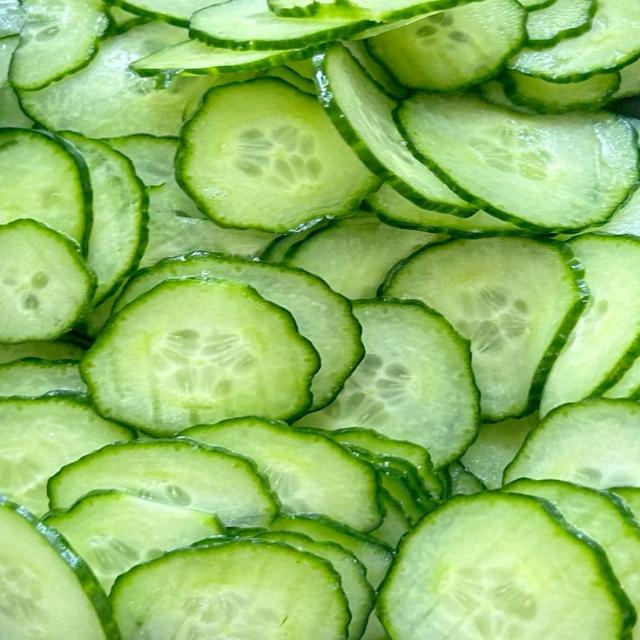cucumber sliced: (115, 253, 363, 409), (378, 492, 634, 639), (81, 278, 319, 435), (384, 237, 587, 421), (398, 94, 638, 232), (176, 78, 377, 232), (297, 300, 478, 468), (314, 44, 474, 216), (112, 540, 350, 639), (182, 417, 382, 531), (20, 23, 215, 137), (48, 439, 278, 526), (44, 491, 224, 591), (540, 234, 639, 415), (503, 479, 639, 610), (0, 496, 121, 639), (0, 395, 132, 515), (62, 132, 147, 306), (367, 0, 526, 91), (255, 531, 375, 639), (284, 217, 442, 299), (505, 399, 639, 488), (0, 219, 95, 342), (141, 185, 273, 267), (509, 0, 639, 81), (0, 129, 90, 242), (189, 0, 372, 50), (270, 515, 392, 587), (10, 0, 107, 90), (366, 185, 525, 237), (330, 428, 443, 497), (268, 0, 469, 37), (132, 40, 312, 76), (461, 414, 538, 489), (502, 70, 619, 114), (343, 39, 407, 99), (106, 134, 178, 186), (526, 0, 597, 48), (0, 358, 86, 397), (378, 469, 434, 526), (108, 0, 223, 27), (260, 221, 330, 263), (586, 190, 639, 236), (371, 487, 410, 547), (474, 80, 534, 114), (0, 340, 84, 363), (259, 65, 316, 95), (446, 461, 486, 497), (0, 86, 33, 128), (608, 487, 639, 521), (612, 60, 639, 99), (0, 35, 19, 88), (107, 5, 141, 32), (0, 0, 23, 37), (519, 0, 556, 10)
